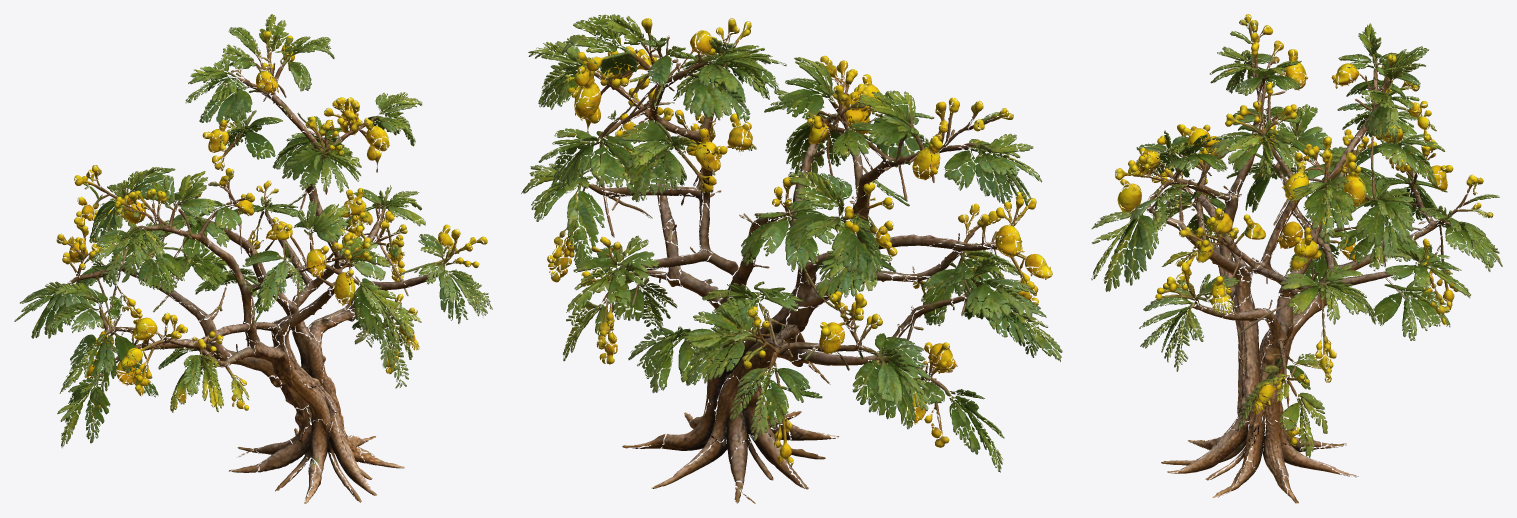
File: talh.glb
3 views of the same model, side by side, from view 1: azimuth 30°, elevation 25°; view 2: azimuth 150°, elevation 25°; view 3: azimuth 270°, elevation 25° (orthographic). The views are drawn at different scales.
Parts seen in each view (by area): view 1: tripo_node_3ffc7458-a6b5-4f14-94b1-14489f3bd064; view 2: tripo_node_3ffc7458-a6b5-4f14-94b1-14489f3bd064; view 3: tripo_node_3ffc7458-a6b5-4f14-94b1-14489f3bd064.
Part boxes in pixels (left/top/right/bottom): tripo_node_3ffc7458-a6b5-4f14-94b1-14489f3bd064: left=14, top=14, right=492, bottom=503; tripo_node_3ffc7458-a6b5-4f14-94b1-14489f3bd064: left=521, top=14, right=1062, bottom=503; tripo_node_3ffc7458-a6b5-4f14-94b1-14489f3bd064: left=1091, top=14, right=1502, bottom=503.
Bounding box in the file's own units: 0.9703 × 0.9325 × 0.8192.
Materials: 1 (1 with a texture image).
